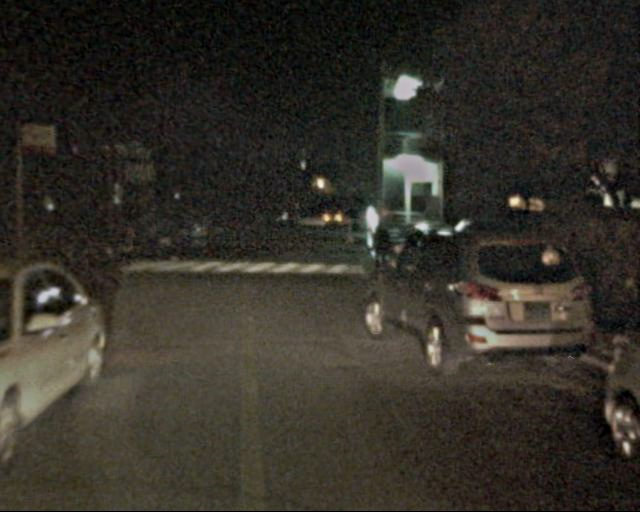person: (116, 215, 141, 275), (370, 222, 394, 280), (167, 214, 183, 257)
